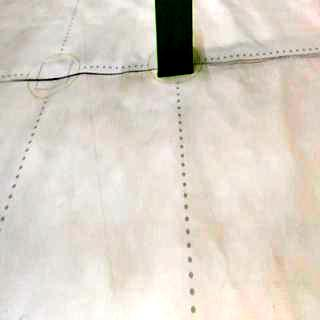greenbox: (152, 0, 196, 84)
